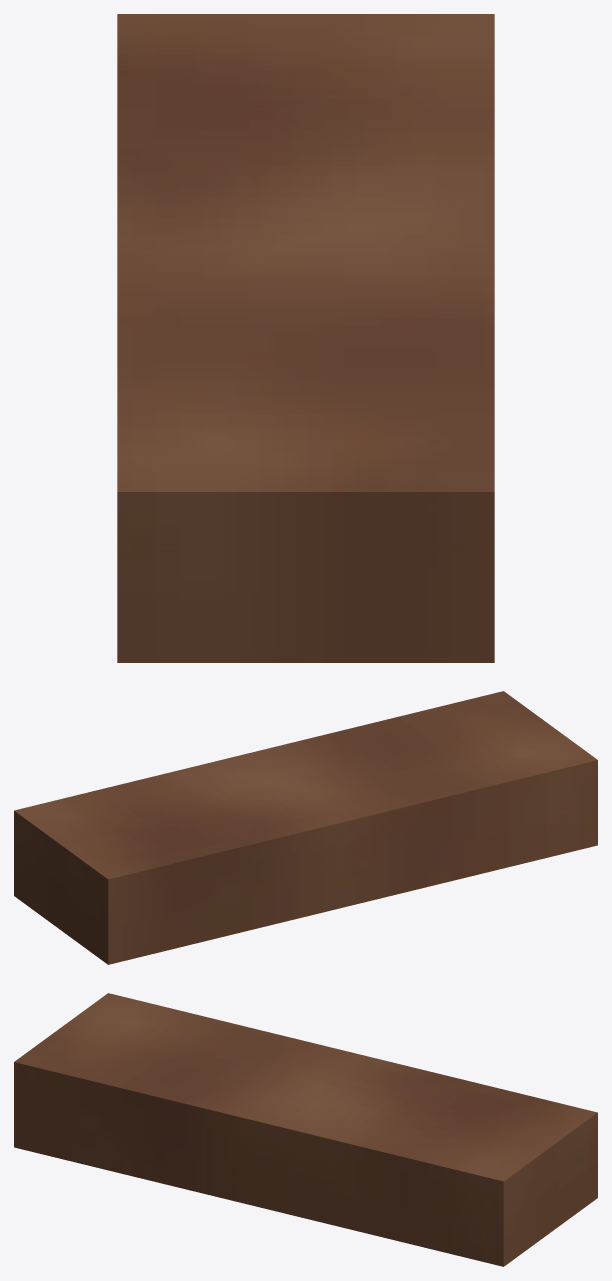
File: body__gauge_tick_1.glb
3 renders of one model, top to bottom at view 1: azimuth 30°, elevation 25°; view 2: azimuth 150°, elevation 25°; view 3: azimuth 270°, elevation 25°, orthographic. The views are drawn at different scales.
Parts seen in each view (by area): view 1: geometry_0; view 2: geometry_0; view 3: geometry_0.
Part boxes in pixels (x1=…): geometry_0: x1=117, y1=14, x2=494, y2=662; geometry_0: x1=14, y1=691, x2=597, y2=964; geometry_0: x1=14, y1=993, x2=597, y2=1266.
Bounding box in the file's own units: 0.00946 × 0.002 × 0.0124.
1 material, 1 textured.
